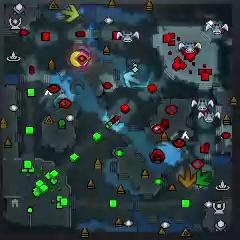Other: (75, 52, 89, 67)
p4: (70, 50, 90, 68)
x2: (60, 5, 79, 23)
x3: (124, 71, 140, 88)
x4: (196, 169, 212, 189)
x5: (178, 166, 198, 189)
